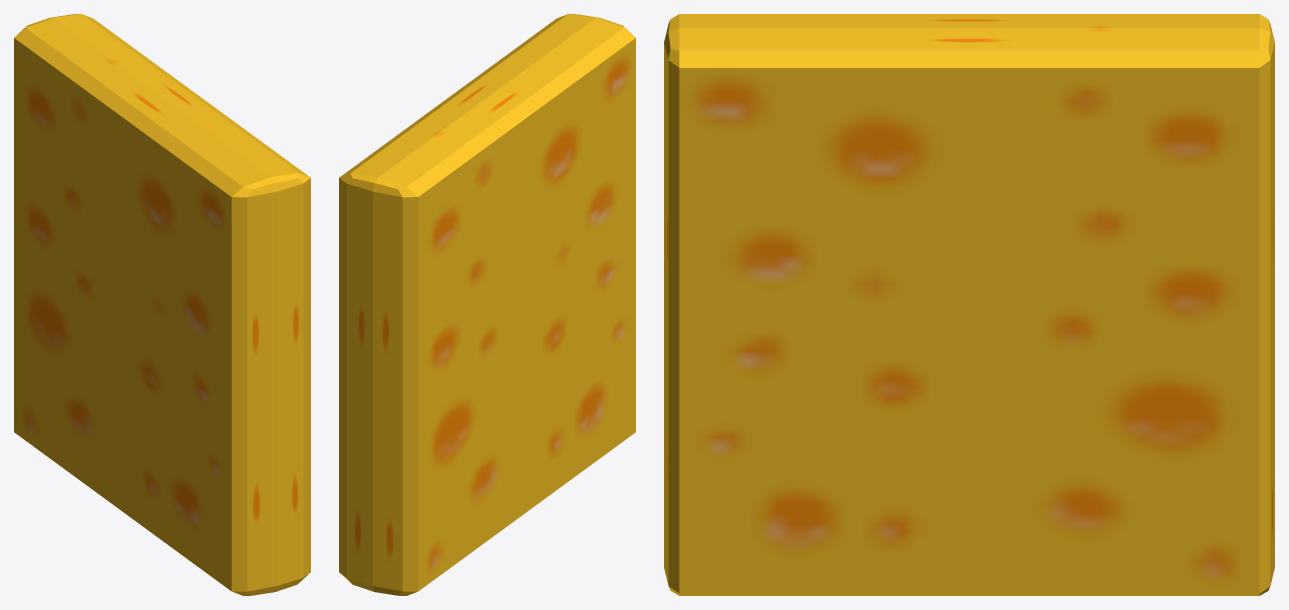
File: Cheese-HalfSize.fbx
3 views of the same model, side by side, from view 1: azimuth 30°, elevation 25°; view 2: azimuth 150°, elevation 25°; view 3: azimuth 270°, elevation 25° (orthographic). The views are drawn at different scales.
Parts seen in each view (by area): view 1: Cheese; view 2: Cheese; view 3: Cheese.
Boxes of the visible parts, x1,y1,x2,y2 form: Cheese: [14, 14, 310, 595]; Cheese: [339, 14, 635, 595]; Cheese: [664, 14, 1274, 595].
Bounding box in the file's own units: 50 × 250 × 250.
